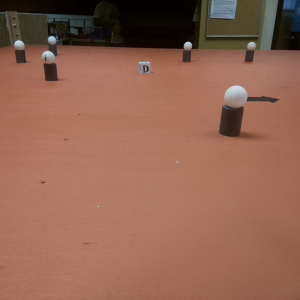obstacle: (221, 87, 244, 137), (42, 50, 55, 84), (13, 39, 27, 64), (246, 42, 257, 62), (183, 41, 192, 62), (48, 35, 57, 56)
